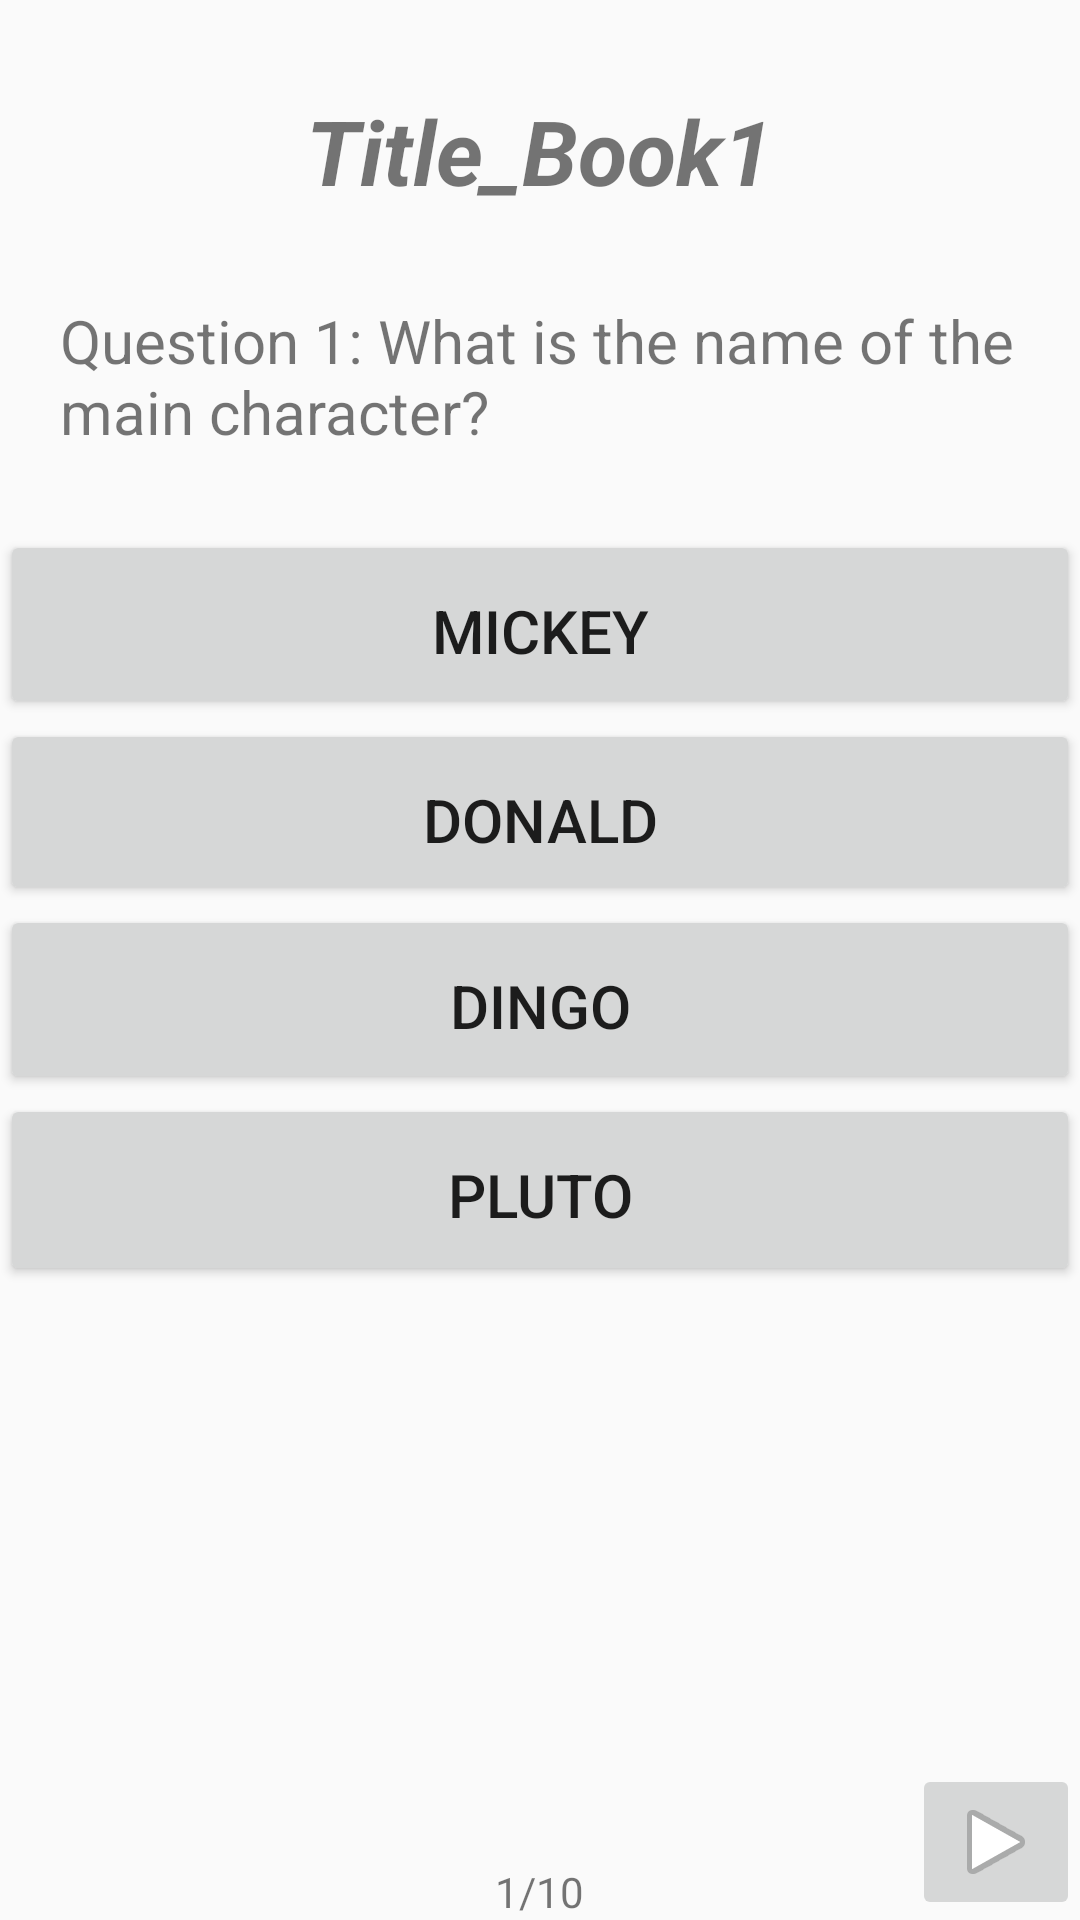

Named icons in this screenshot (1080 × 1920) and their bounding boxes, detection(x1, y1, x2, y2):
play: detection(924, 1782, 1068, 1902)
